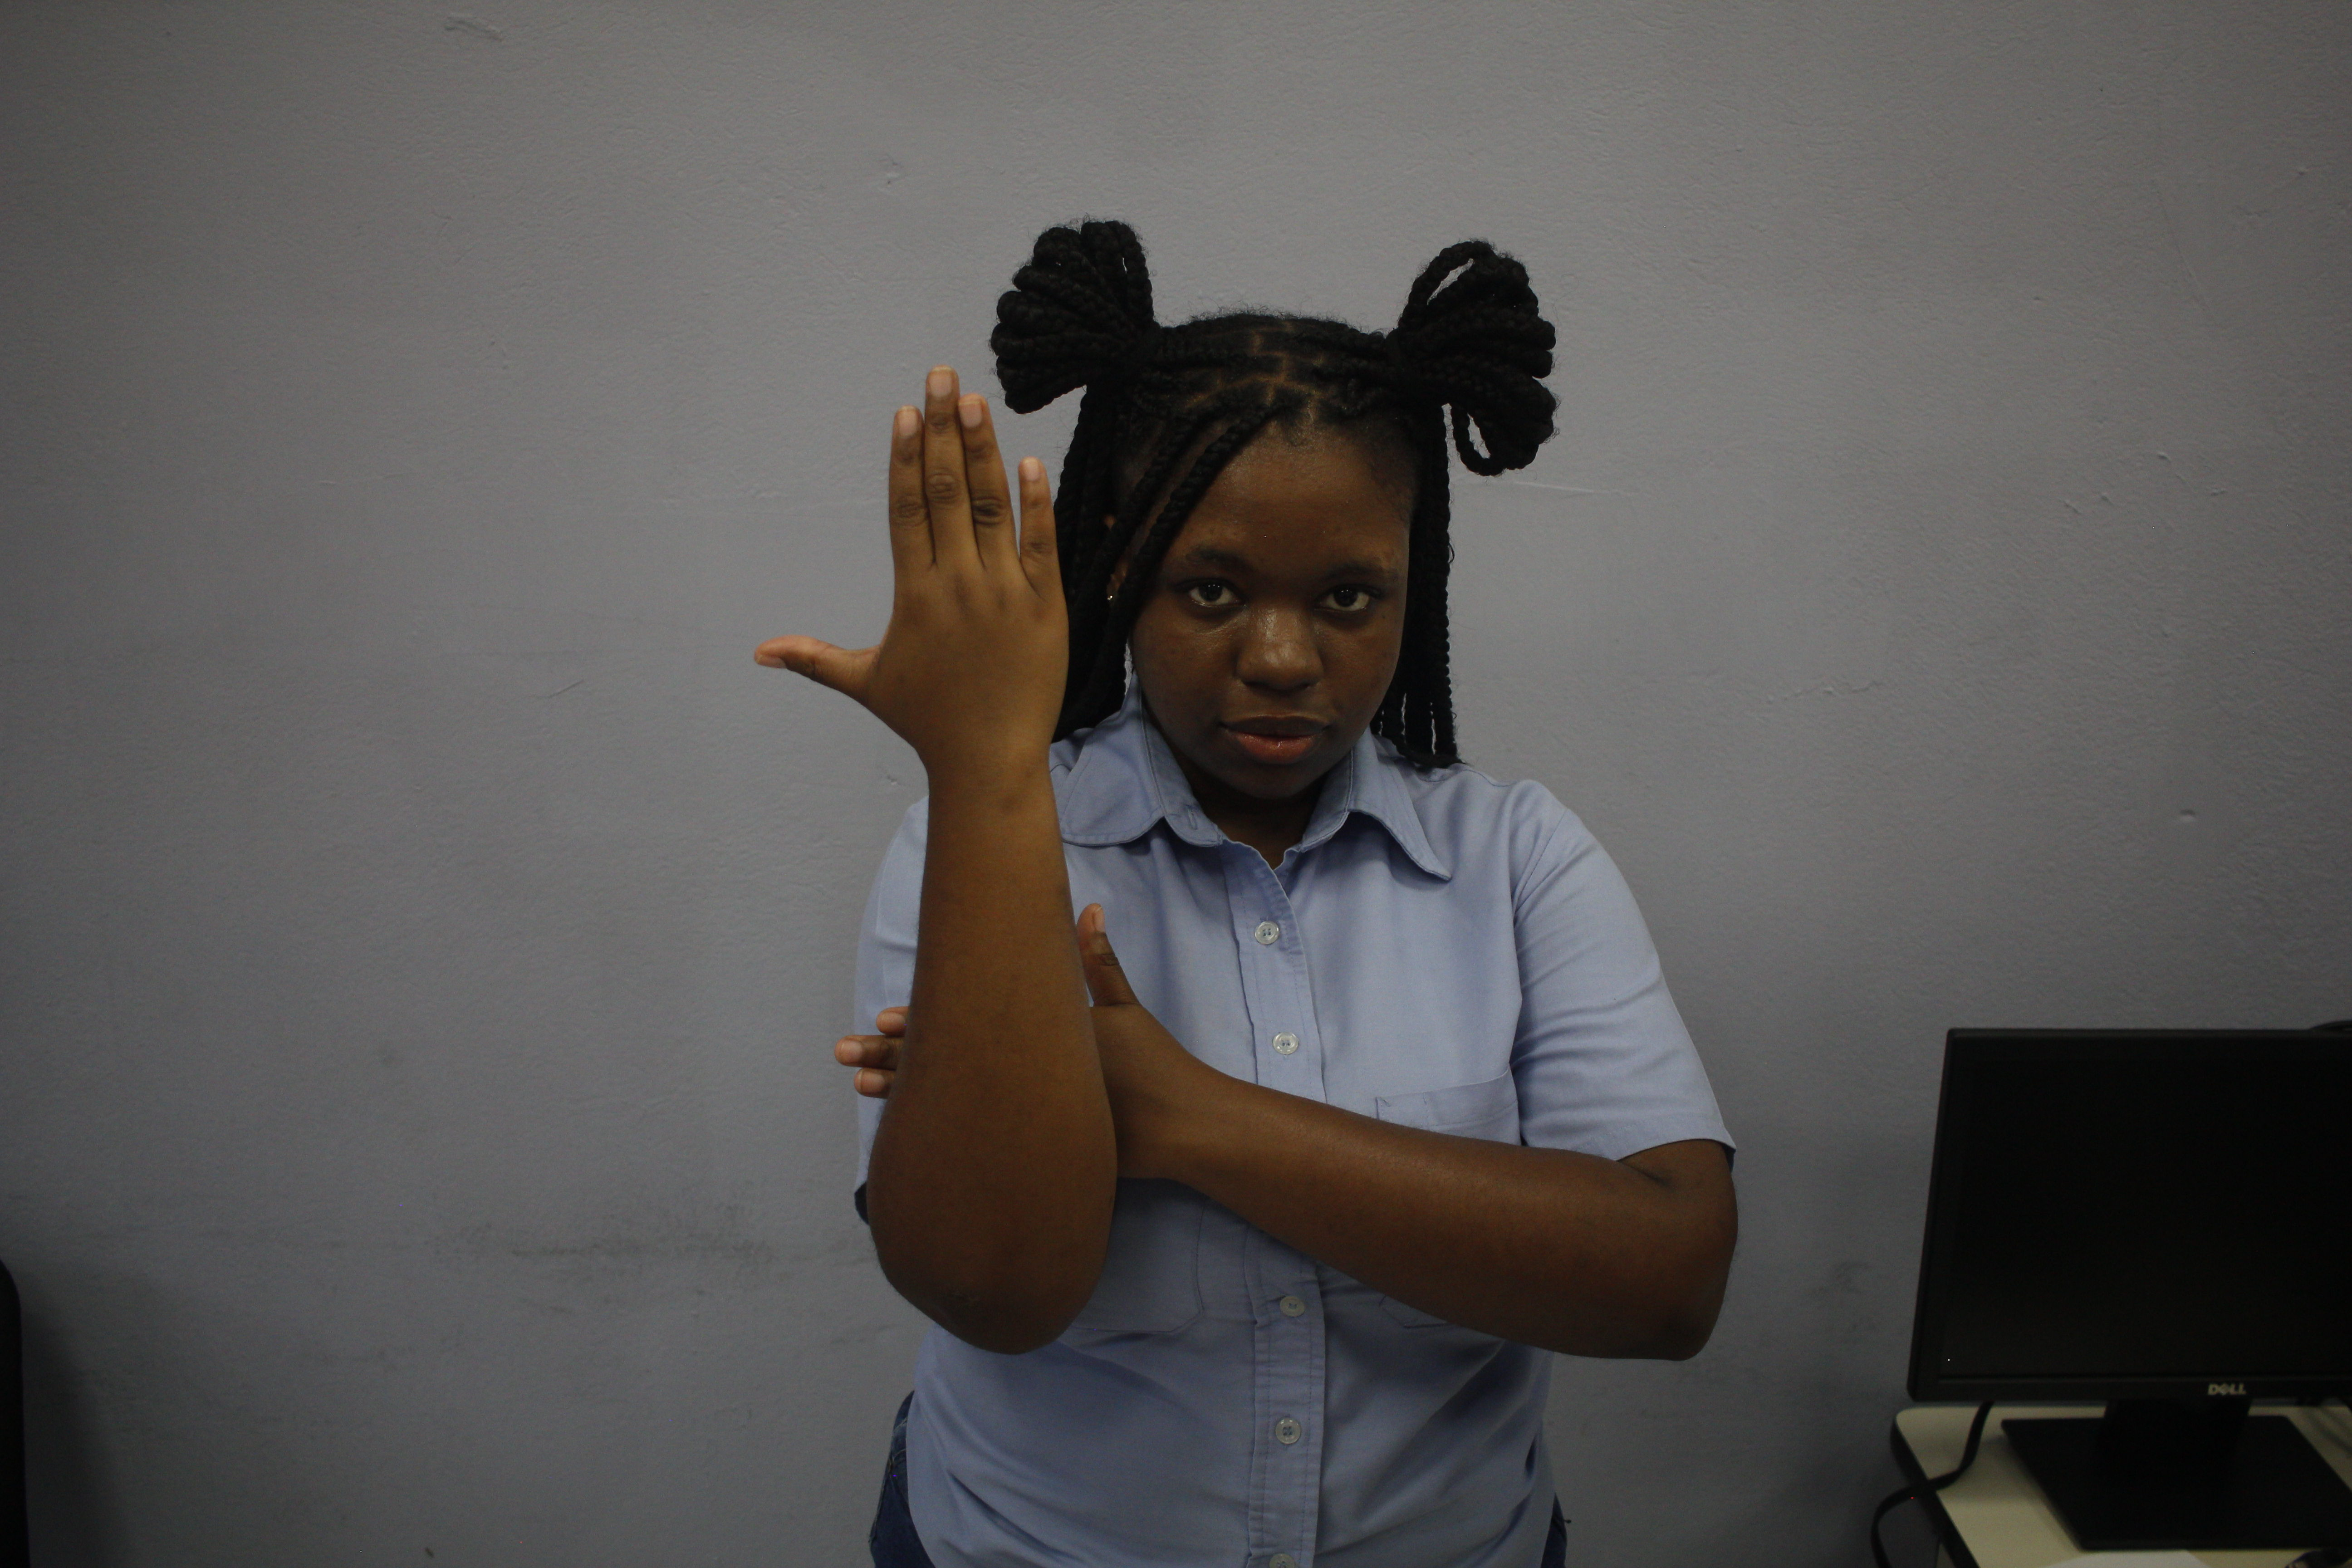morning: (745, 353, 1164, 1363)
